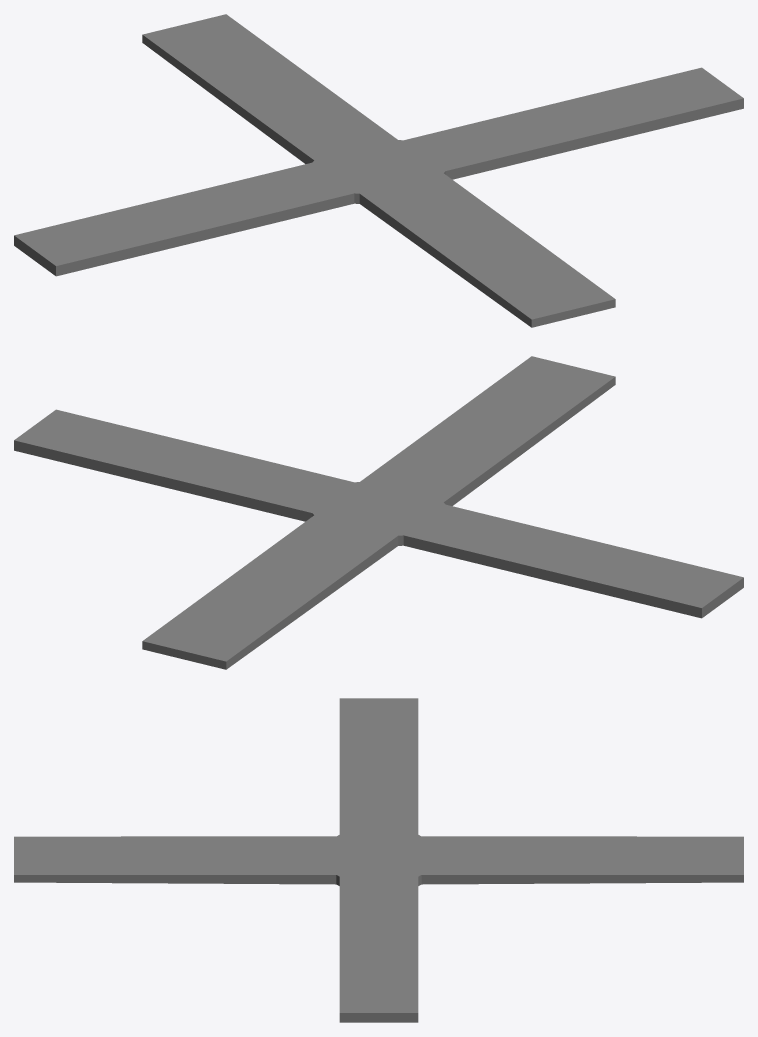
File: RFan_A.obj
The picture shows the model from 3 angles, top to bottom: view 1: azimuth 30°, elevation 25°; view 2: azimuth 150°, elevation 25°; view 3: azimuth 270°, elevation 25°; orthographic projection. The views are drawn at different scales.
Parts seen in each view (by area): view 1: RFan_A; view 2: RFan_A; view 3: RFan_A.
Boxes of the visible parts, left/top/right/bottom form: RFan_A: left=14, top=14, right=743, bottom=327; RFan_A: left=14, top=356, right=743, bottom=669; RFan_A: left=14, top=698, right=743, bottom=1022.
Bounding box in the file's own units: 1.76 × 0.0252 × 1.73.
